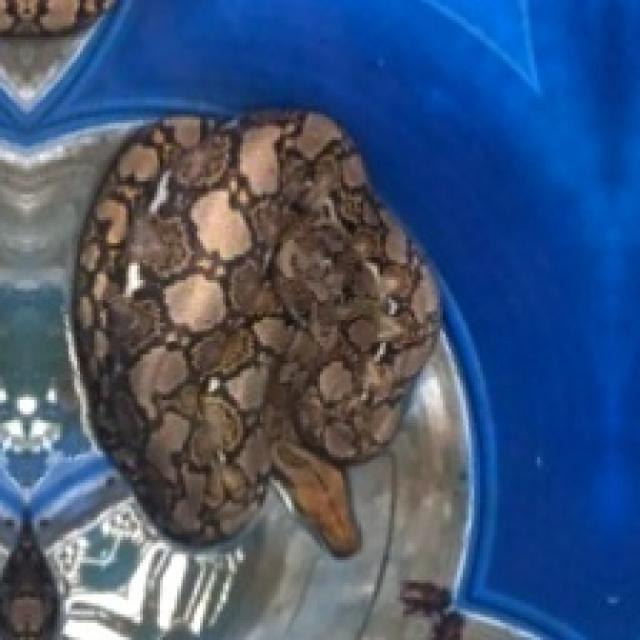reticulated python: (71, 111, 437, 551)
